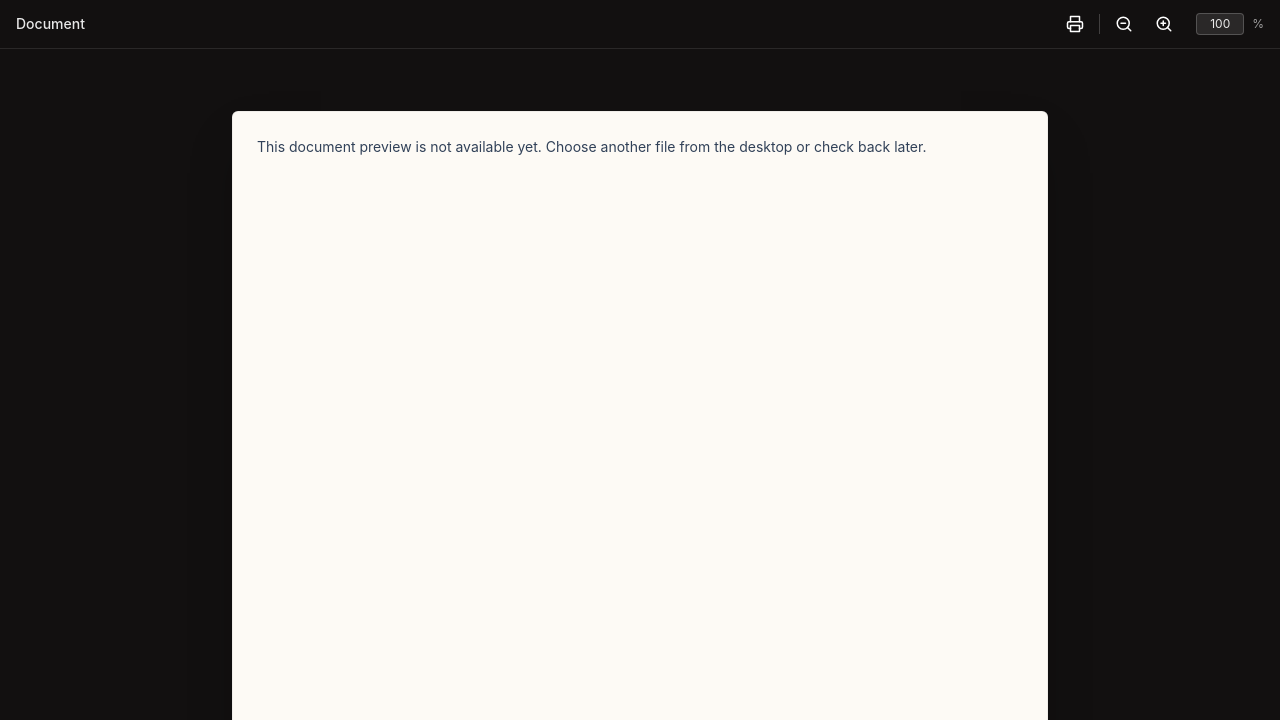
Test: <PDFViewer /> › should zoom in when zoom in button is clicked
Expected: the field named "Zoom percentage" holds "100", [1196, 13, 1244, 35]
Click the button named "Zoom in". click: click(1164, 24)
box: [1148, 8, 1180, 40]
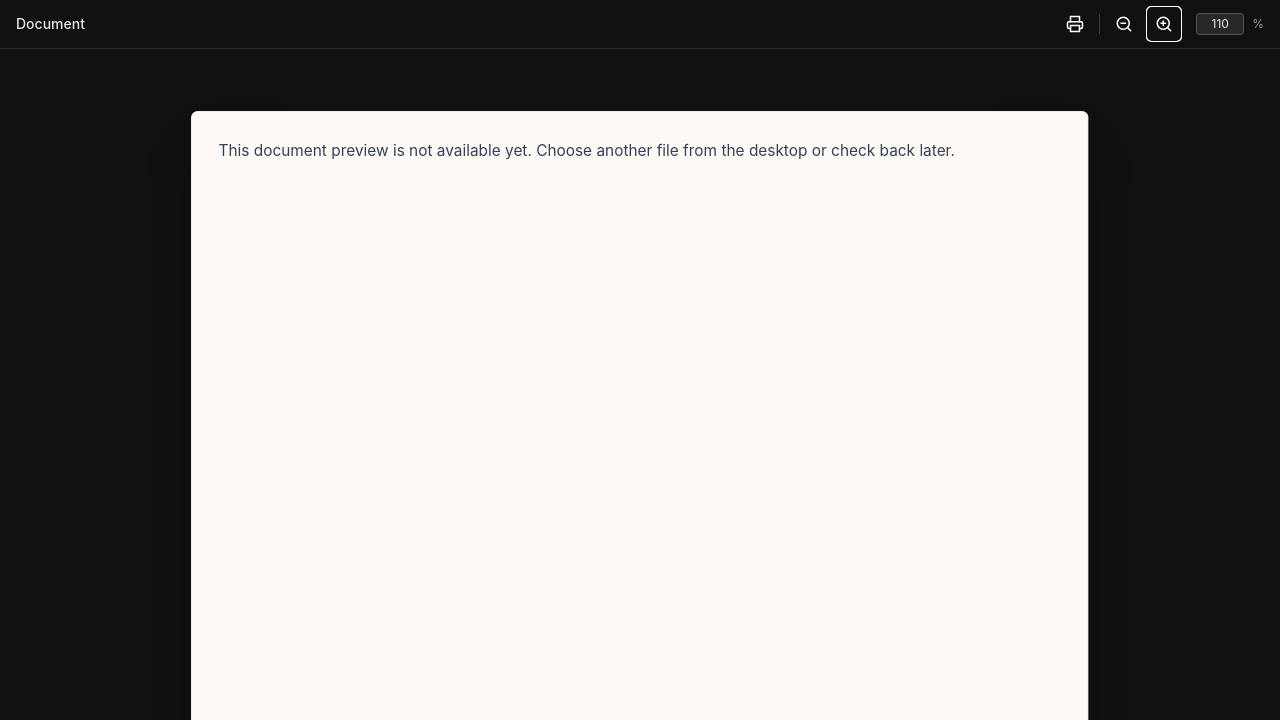
Result: the field named "Zoom percentage" holds "110" at [1196, 13, 1244, 35]
